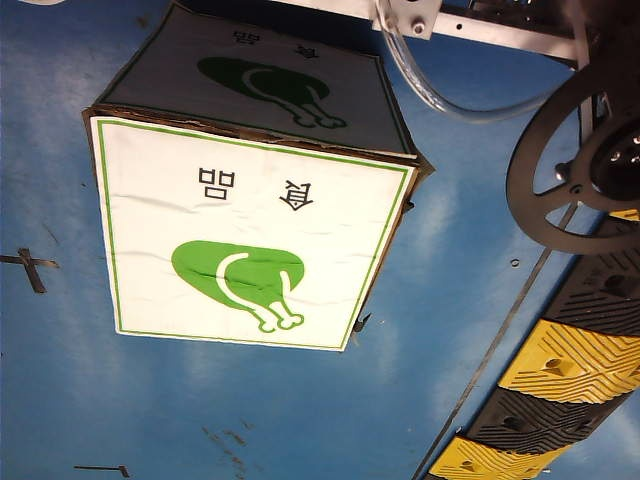Cube_food: (108, 152, 373, 341)
